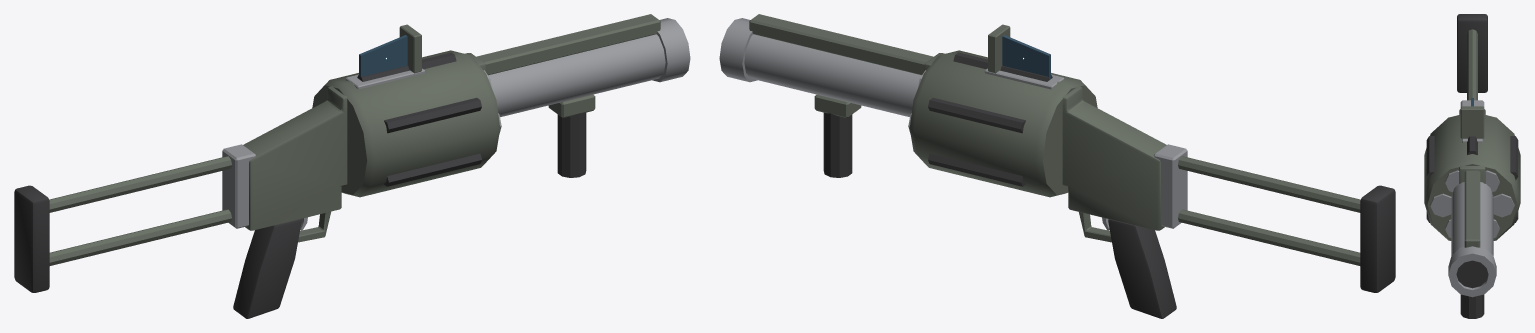
The picture shows the model from 3 angles, left to right: view 1: azimuth 30°, elevation 25°; view 2: azimuth 150°, elevation 25°; view 3: azimuth 270°, elevation 25°; orthographic projection. The views are drawn at different scales.
Visible parts, largest first — view 1: W_gl; view 2: W_gl; view 3: W_gl.
Part boxes in pixels (x1=…): W_gl: x1=14, y1=14, x2=690, y2=318; W_gl: x1=719, y1=14, x2=1395, y2=318; W_gl: x1=1424, y1=14, x2=1520, y2=318.
Bounding box in the file's own units: 0.77 × 0.2737 × 0.124.
